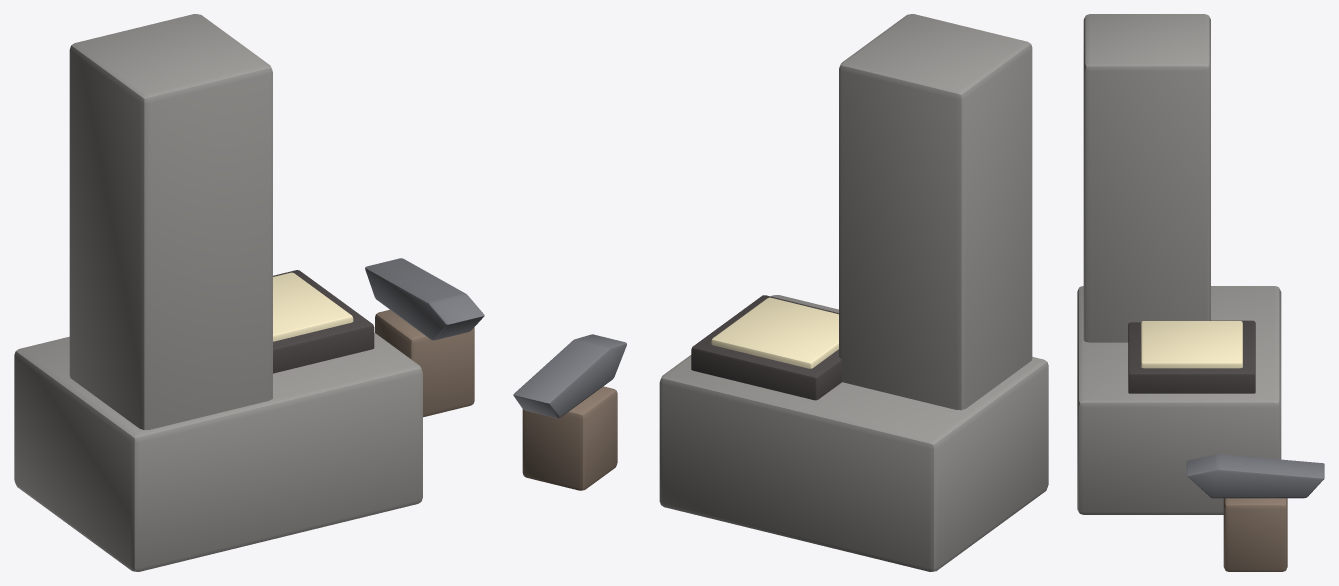
Rendered from forge.gltf.
The picture shows the model from 3 angles, left to right: view 1: azimuth 30°, elevation 25°; view 2: azimuth 150°, elevation 25°; view 3: azimuth 270°, elevation 25°; orthographic projection. The views are drawn at different scales.
Parts seen in each view (by area): view 1: Body; view 2: Body; view 3: Body.
Boxes of the visible parts, left/top/right/bottom form: Body: left=14, top=14, right=484, bottom=571; Body: left=513, top=14, right=1048, bottom=571; Body: left=1077, top=14, right=1324, bottom=571.
Size of the model in its own units: 3.25 by 3.4 by 1.94.
